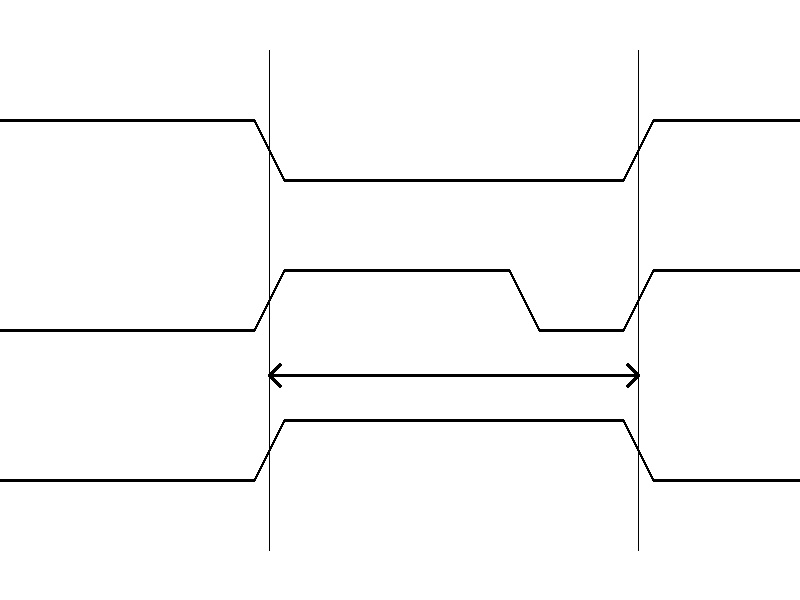double_arrow: (269, 360, 638, 390)
